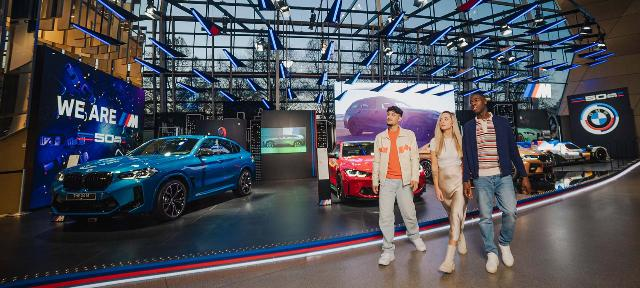bmw: (48, 134, 255, 222), (319, 141, 427, 207)
